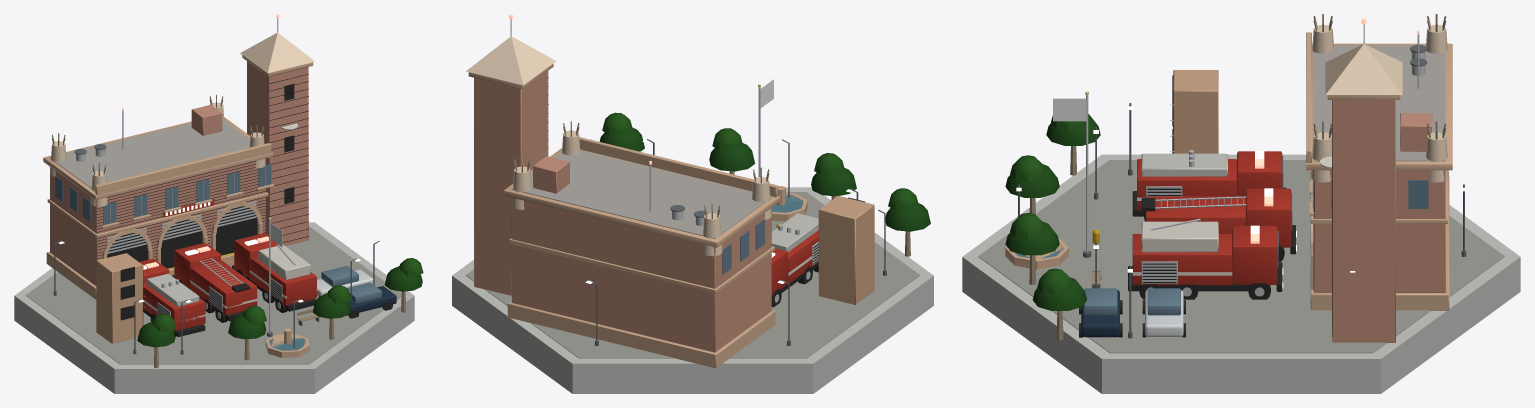
The model's file is fireStation_africa.glb.
3 views of the same model, side by side, from view 1: azimuth 30°, elevation 25°; view 2: azimuth 150°, elevation 25°; view 3: azimuth 270°, elevation 25° (orthographic). The views are drawn at different scales.
Visible parts, largest first — view 1: brick, wall_concrete, pavers, stone, paint, dark, gravel, leaf, glass, metal, plaster, wood (+1 smaller); view 2: brick, wall_concrete, stone, pavers, gravel, leaf, plaster, paint, glass, metal, steel_dark, wood (+1 smaller); view 3: pavers, wall_concrete, brick, paint, stone, leaf, plaster, gravel, dark, glass, metal, wood (+2 smaller).
Part boxes in pixels (x1,y1,x2,y2): brick: [50, 61, 308, 285]; wall_concrete: [14, 165, 414, 393]; pavers: [26, 226, 401, 364]; stone: [43, 55, 313, 357]; paint: [139, 123, 396, 331]; dark: [97, 67, 392, 336]; gravel: [50, 120, 250, 188]; leaf: [137, 258, 423, 347]; glass: [55, 163, 381, 350]; metal: [76, 18, 295, 332]; plaster: [50, 32, 314, 206]; wood: [52, 94, 406, 368]; brick: [474, 71, 771, 352]; wall_concrete: [452, 187, 933, 393]; stone: [468, 63, 874, 368]; pavers: [465, 192, 920, 358]; gravel: [511, 150, 771, 238]; leaf: [599, 112, 930, 231]; plaster: [466, 36, 771, 256]; paint: [771, 195, 837, 295]; glass: [722, 194, 803, 274]; metal: [510, 19, 818, 302]; steel_dark: [590, 139, 886, 345]; wood: [514, 121, 910, 256]; pavers: [978, 160, 1504, 353]; wall_concrete: [962, 154, 1520, 393]; brick: [1314, 100, 1445, 342]; paint: [1081, 90, 1331, 337]; stone: [1005, 32, 1452, 310]; leaf: [1005, 114, 1100, 310]; plaster: [1310, 25, 1448, 182]; gravel: [1314, 45, 1445, 161]; dark: [1079, 75, 1332, 337]; glass: [1014, 156, 1428, 315]; metal: [1086, 24, 1425, 296]; wood: [1029, 14, 1446, 340].
Size of the model in its own units: 21.3 by 16.8 by 24.6.
